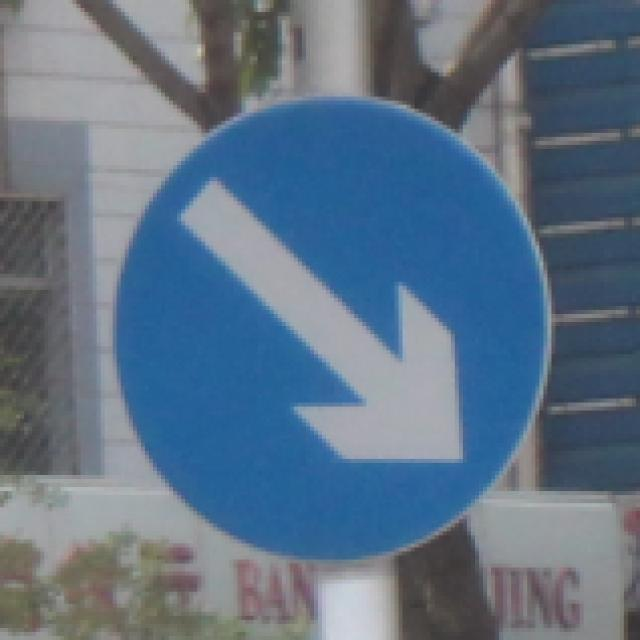Right: (107, 92, 554, 561)
